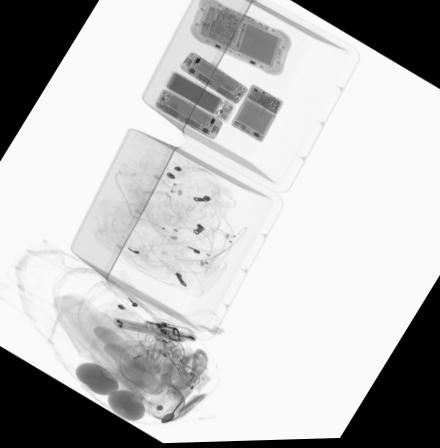Powerbank: (163, 70, 235, 123)
